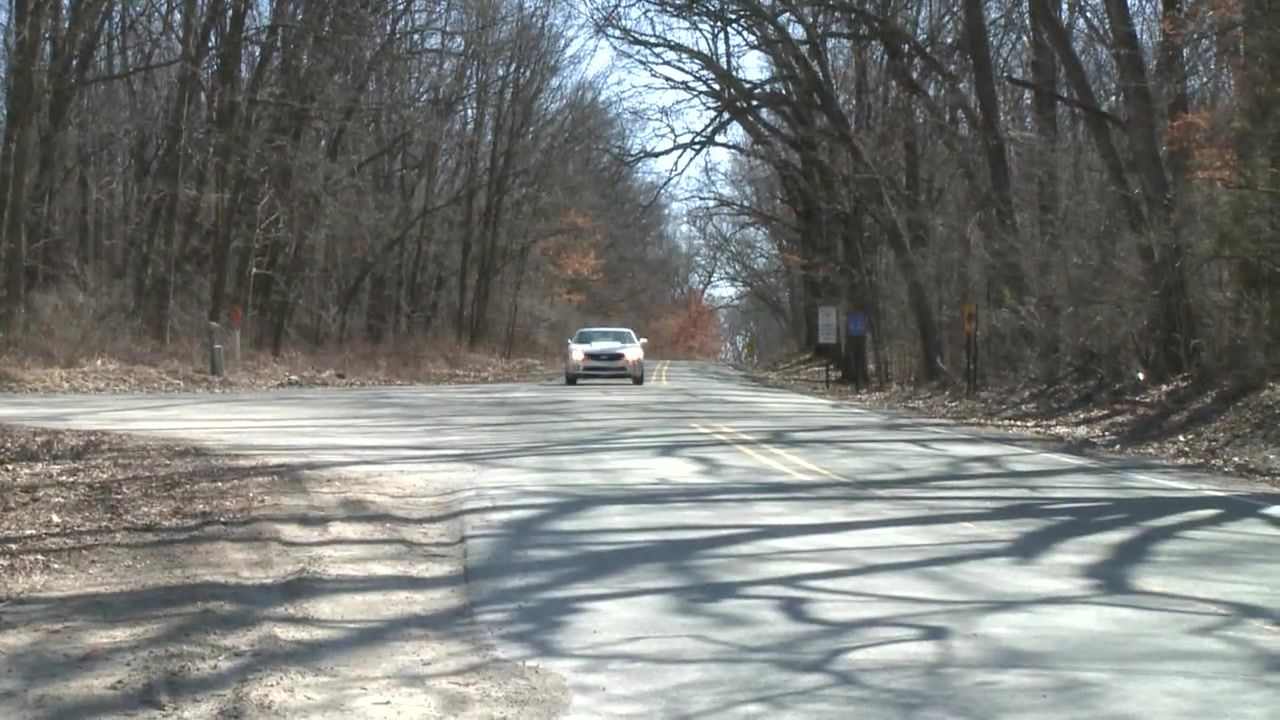car: (563, 324, 651, 385)
